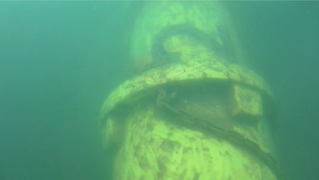2: (151, 24, 237, 65)
pipe: (97, 1, 277, 180)
